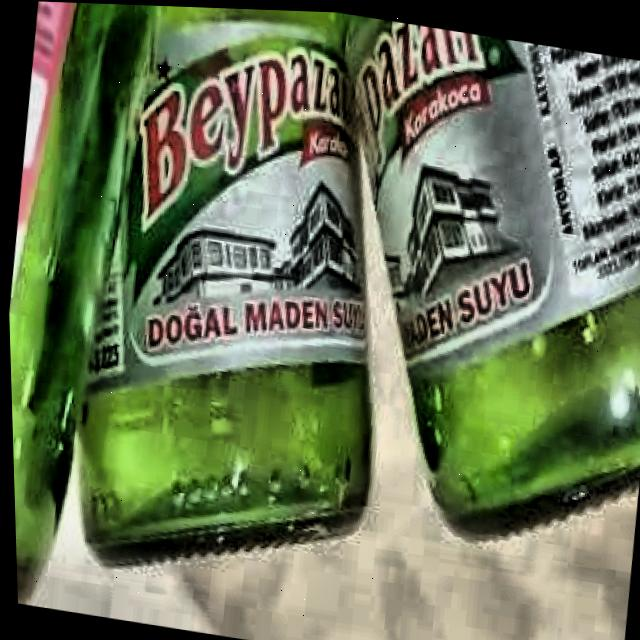glass: (7, 1, 640, 604)
